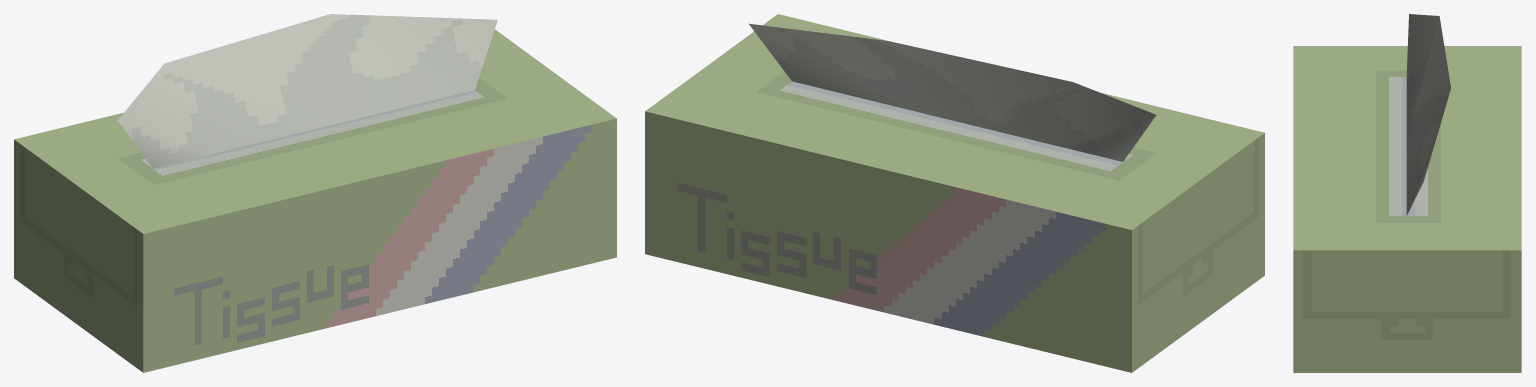
File: 018e_Tissues.glb
The picture shows the model from 3 angles, left to right: view 1: azimuth 30°, elevation 25°; view 2: azimuth 150°, elevation 25°; view 3: azimuth 270°, elevation 25°; orthographic projection. The views are drawn at different scales.
Parts seen in each view (by area): view 1: part_0; view 2: part_0; view 3: part_0.
Part boxes in pixels (box(x1,y1,x2,y2)): part_0: box(14, 14, 616, 372); part_0: box(645, 14, 1264, 372); part_0: box(1293, 14, 1521, 372).
Bounding box in the file's own units: 0.243 × 0.1109 × 0.115.
Materials: 1 (1 with a texture image).
